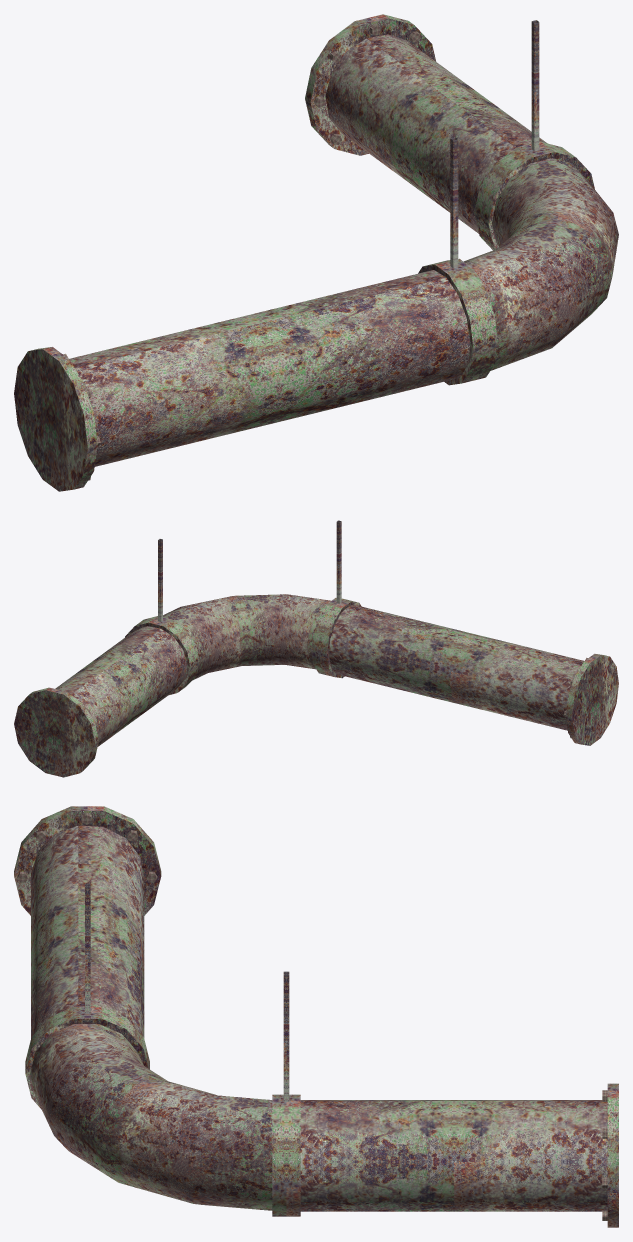
The model's file is pipeCorner.FBX.
3 renders of one model, top to bottom at view 1: azimuth 30°, elevation 25°; view 2: azimuth 150°, elevation 25°; view 3: azimuth 270°, elevation 25°, orthographic. The views are drawn at different scales.
Visible parts, largest first — view 1: pipeCorner; view 2: pipeCorner; view 3: pipeCorner.
Part boxes in pixels (x1,y1,x2,y2): pipeCorner: (14, 14, 618, 491); pipeCorner: (14, 520, 618, 777); pipeCorner: (14, 806, 618, 1227).
Bounding box in the file's own units: 1.32 × 0.4827 × 1.07.
Materials: 1 (1 with a texture image).
